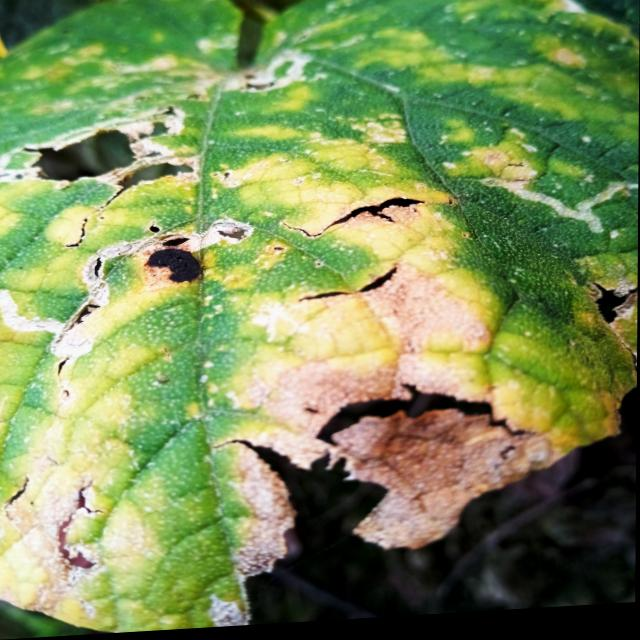Anthracnose: (21, 97, 202, 213), (278, 184, 426, 247), (51, 253, 110, 382), (51, 470, 107, 575), (586, 276, 638, 333), (216, 221, 250, 245), (159, 233, 191, 249), (148, 220, 161, 235)
